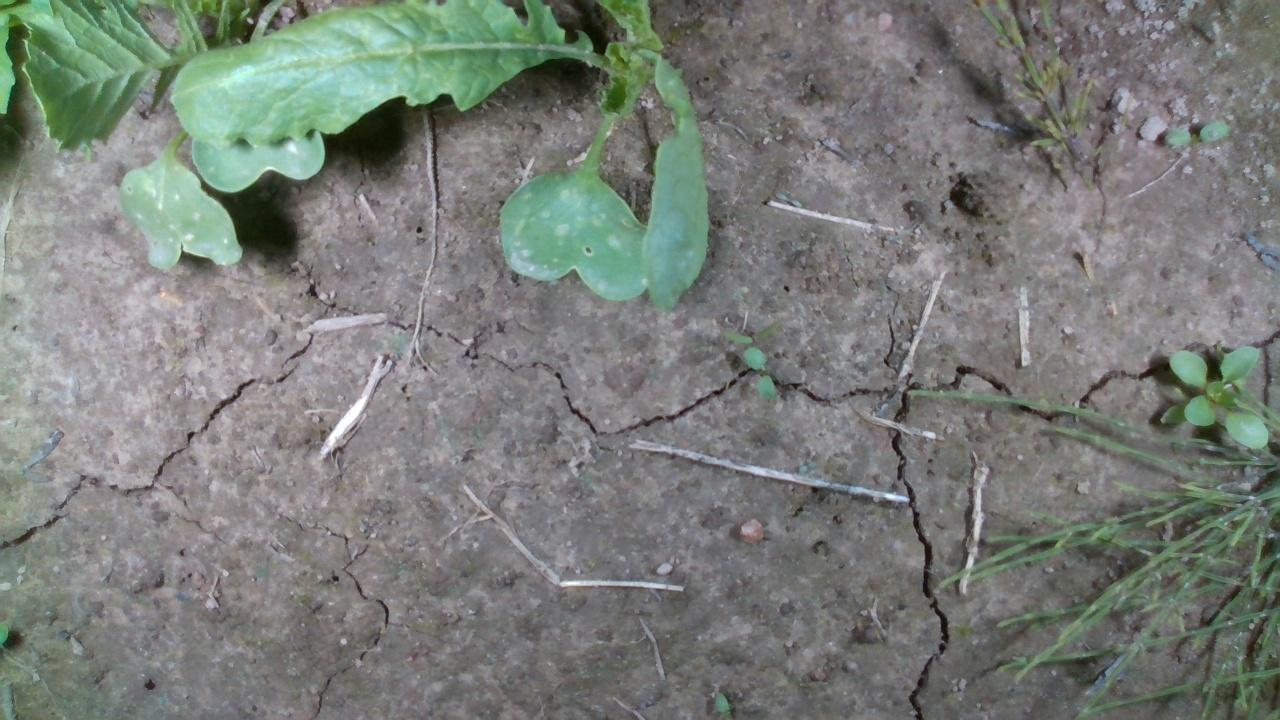weed: (742, 344, 776, 400), (1162, 118, 1228, 146)
